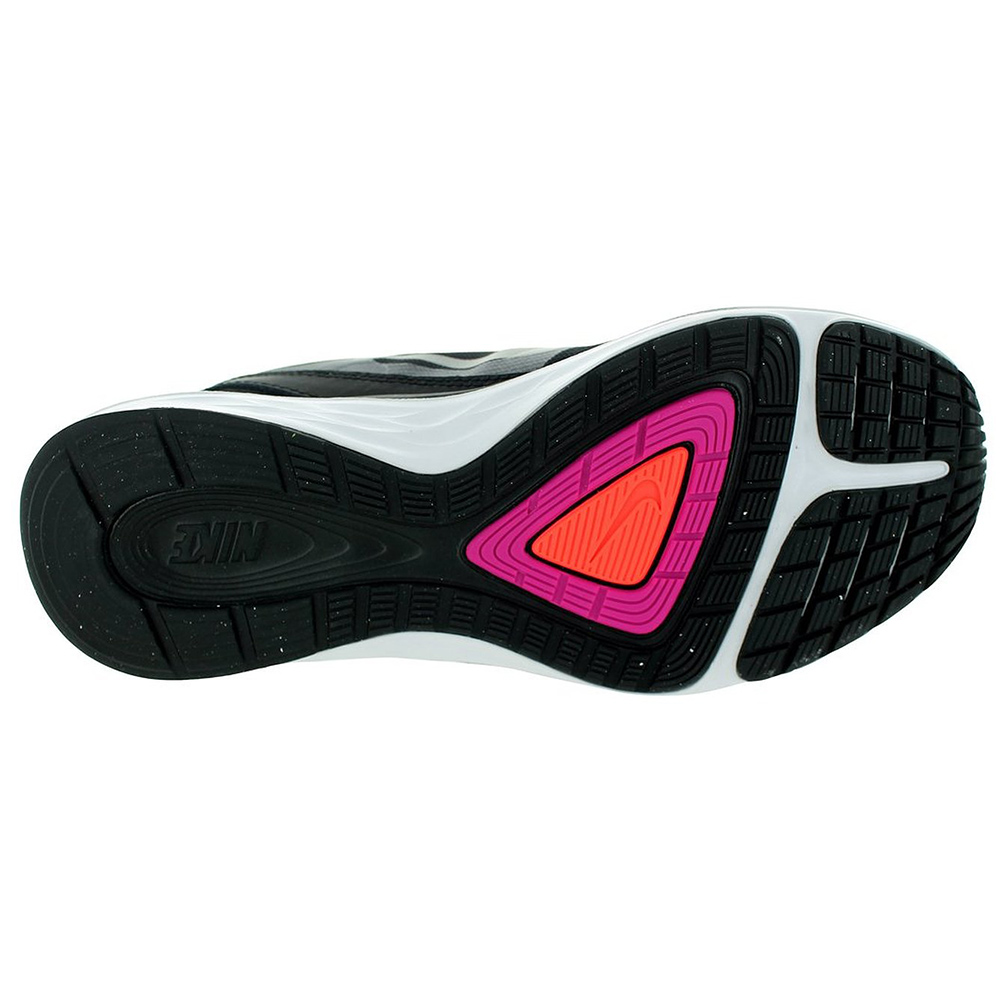Nike: (585, 474, 667, 575)
